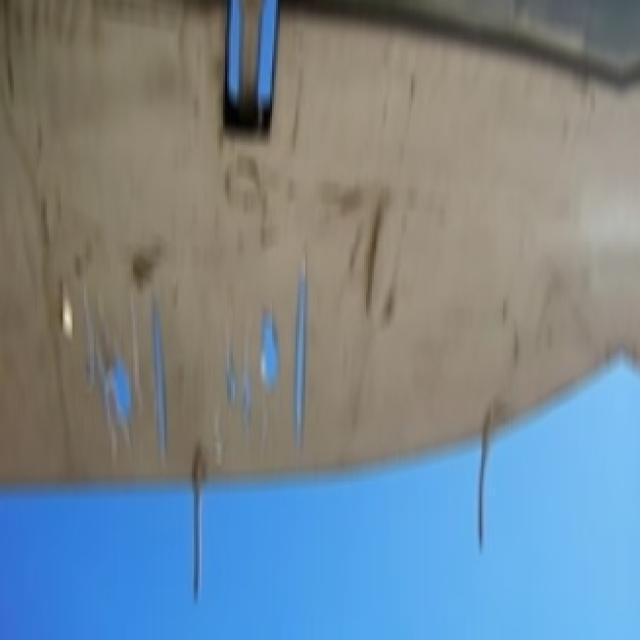crack: (81, 235, 322, 468)
